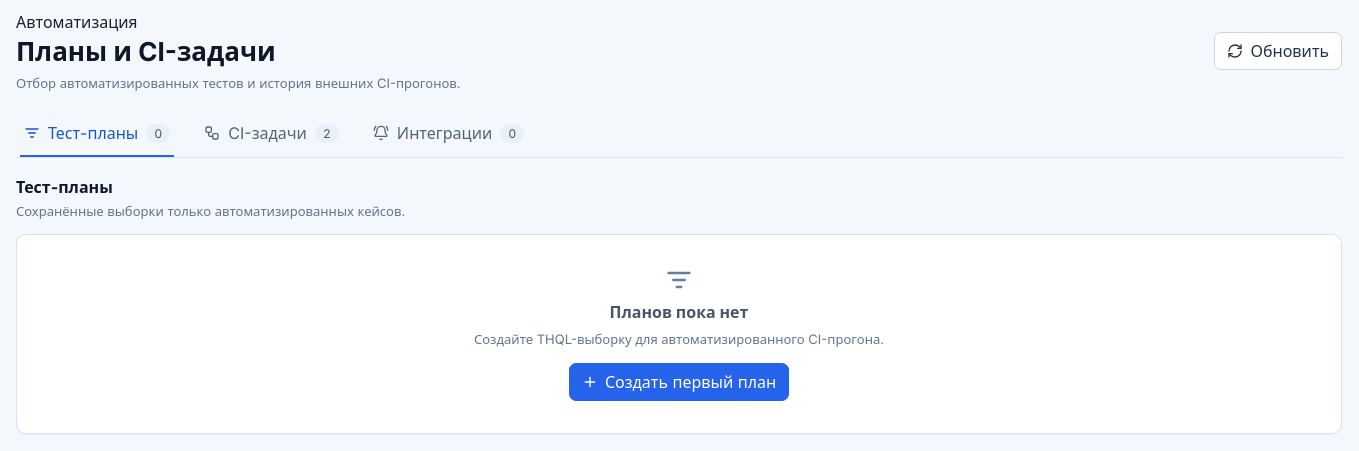
Test case: puts the failed CI pipeline link next to the job name
This screenshot has width=1359, height=451.
Click the tab "CI-задачи 2". click: (272, 133)
box: [200,110,343,157]
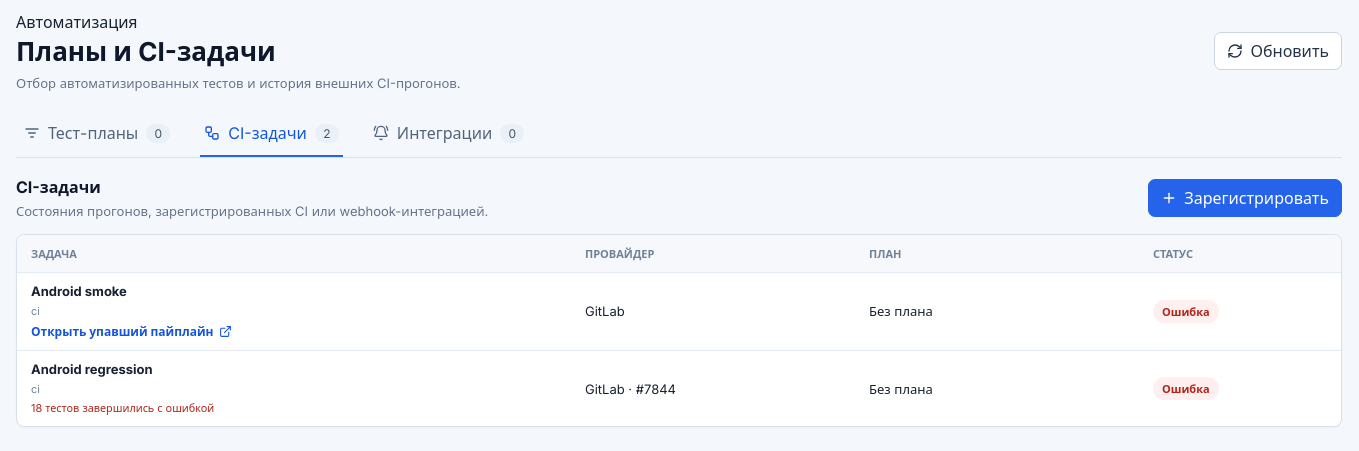
Expected: the link with class "automation-job-pipeline-link" reads "Открыть упавший пайплайн", [31,324,232,340]
Expected: the text "GitLab · #7844" is shown, [585,381,676,397]
Expected: the text "18 тестов завершились с ошибкой" is shown, [31,402,214,416]
